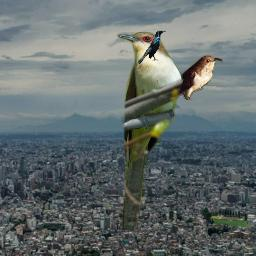Crow: (137, 30, 166, 64)
Cuckoo: (117, 31, 184, 230), (161, 55, 223, 100)
